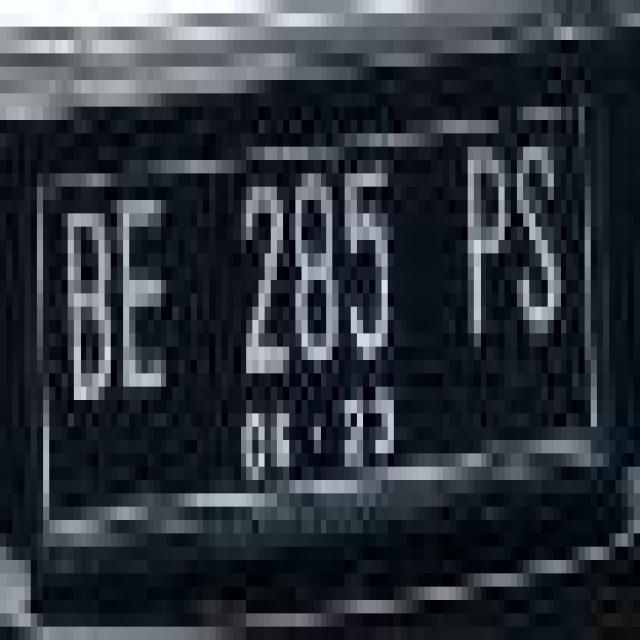2: (230, 166, 292, 394)
5: (341, 153, 397, 380)
8: (292, 167, 342, 380)
B: (61, 200, 117, 413)
E: (114, 186, 170, 414)
P: (462, 140, 511, 353)
S: (508, 133, 564, 347)
